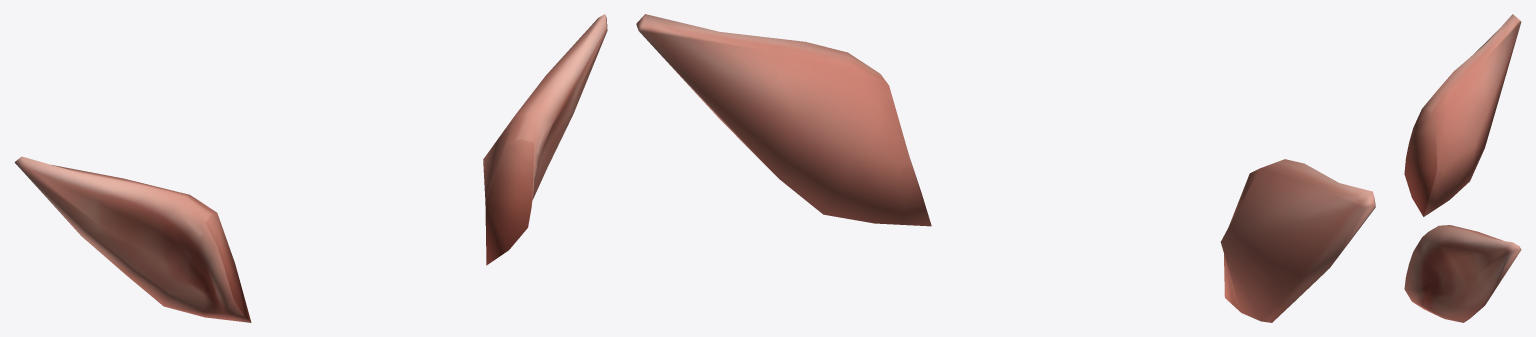
The model's file is Headwear_2600083.FBX.
3 renders of one model, left to right at view 1: azimuth 30°, elevation 25°; view 2: azimuth 150°, elevation 25°; view 3: azimuth 270°, elevation 25°, orthographic. The views are drawn at different scales.
Parts seen in each view (by area): view 1: Headwear_2600083; view 2: Headwear_2600083; view 3: Headwear_2600083.
Boxes of the visible parts, x1,y1,x2,y2 form: Headwear_2600083: [14, 14, 607, 322]; Headwear_2600083: [636, 14, 1375, 322]; Headwear_2600083: [1404, 14, 1521, 322].
Size of the model in its own units: 53.33 by 11.39 by 14.49.
Materials: 1 (1 with a texture image).
